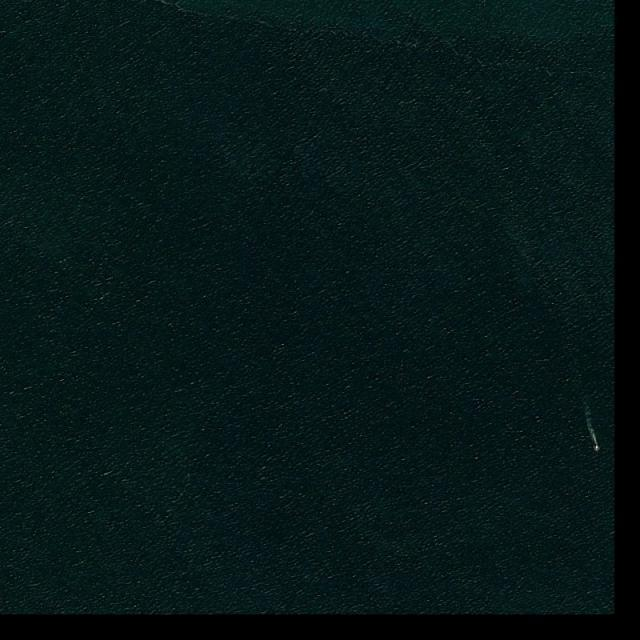ship: (594, 440, 599, 451)
